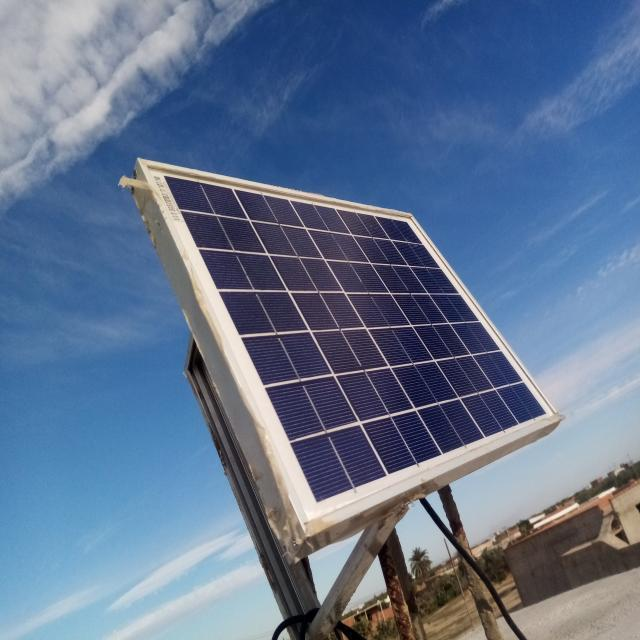Normal Solar Panel: (141, 158, 561, 531)
